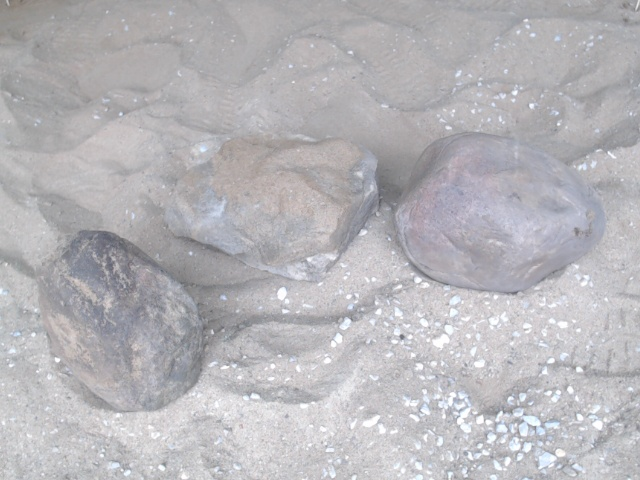rock: (389, 125, 611, 299), (159, 130, 385, 290), (30, 222, 210, 420)
